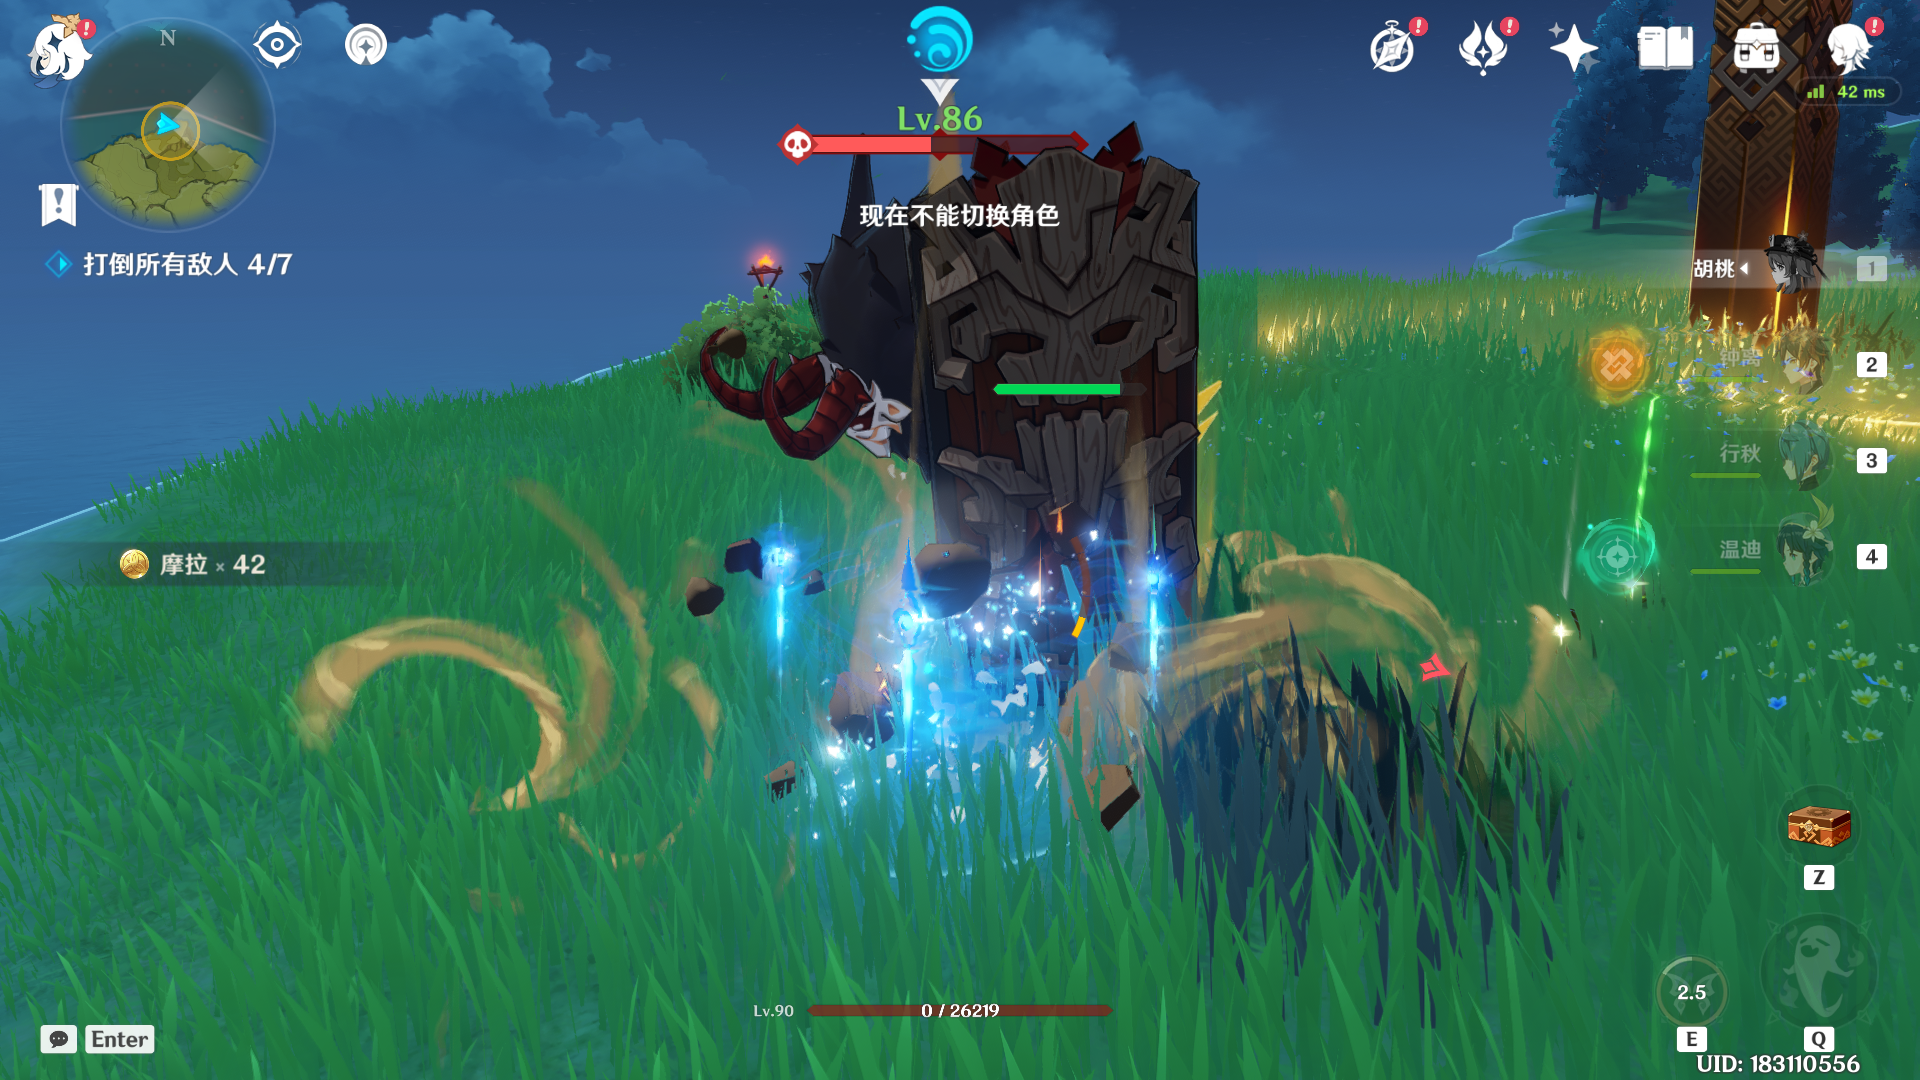bighili: (612, 88, 1275, 766)
